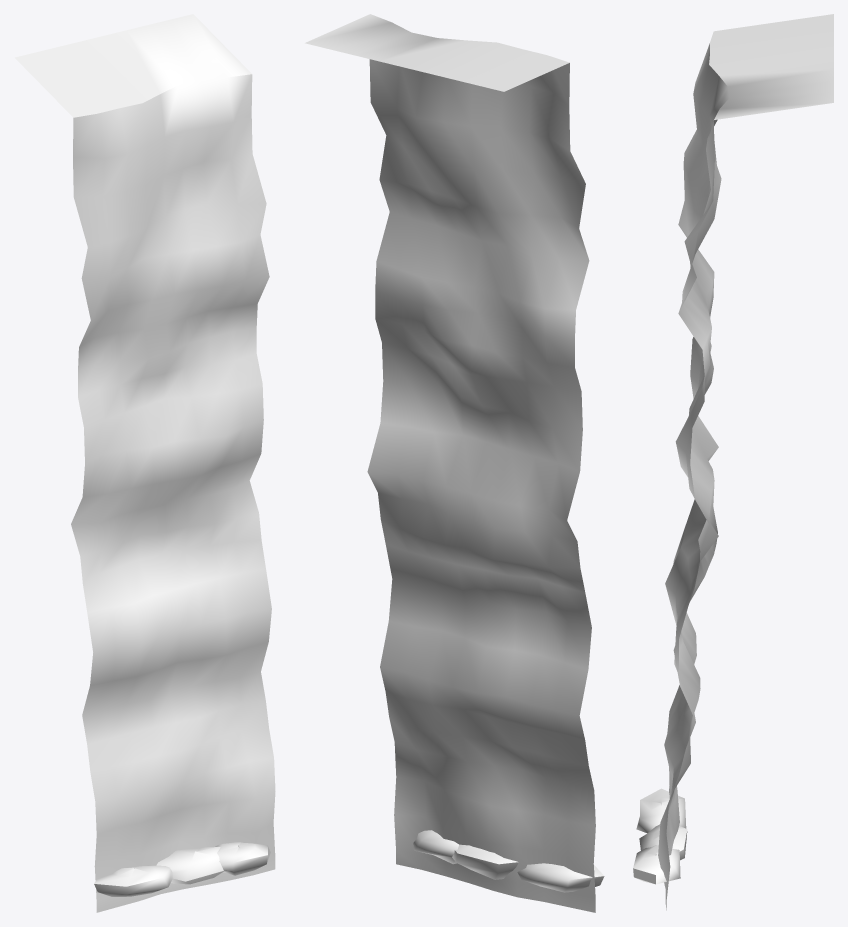
The model's file is cliff.glb.
3 renders of one model, left to right at view 1: azimuth 30°, elevation 25°; view 2: azimuth 150°, elevation 25°; view 3: azimuth 270°, elevation 25°, orthographic. The views are drawn at different scales.
Visible parts, largest first — view 1: CliffPlain; view 2: CliffPlain; view 3: CliffPlain.
Boxes of the visible parts, box(x1,y1,x2,y2) form: CliffPlain: box(15, 14, 275, 912); CliffPlain: box(305, 14, 604, 912); CliffPlain: box(633, 14, 833, 910).
Bounding box in the file's own units: 4.53 × 18.7 × 4.2.
Materials: 1 (1 with a texture image).
